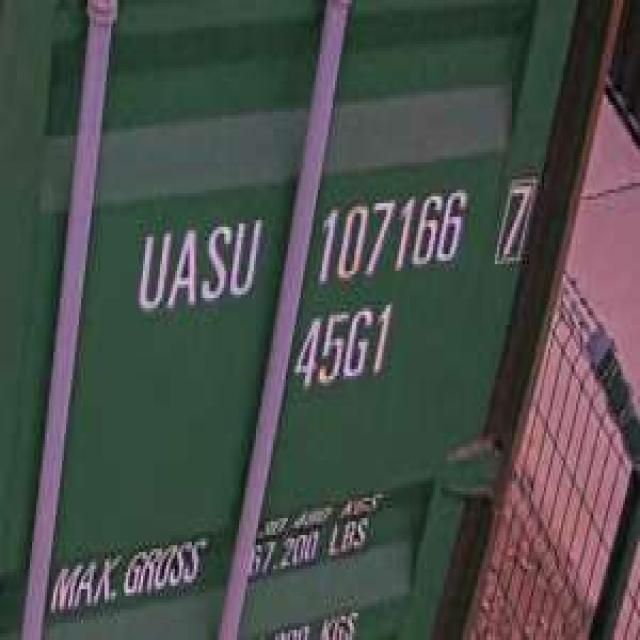dv: (492, 170, 538, 274)
owner: (132, 210, 262, 322)
serial: (314, 183, 469, 288)
size: (292, 298, 395, 396)
